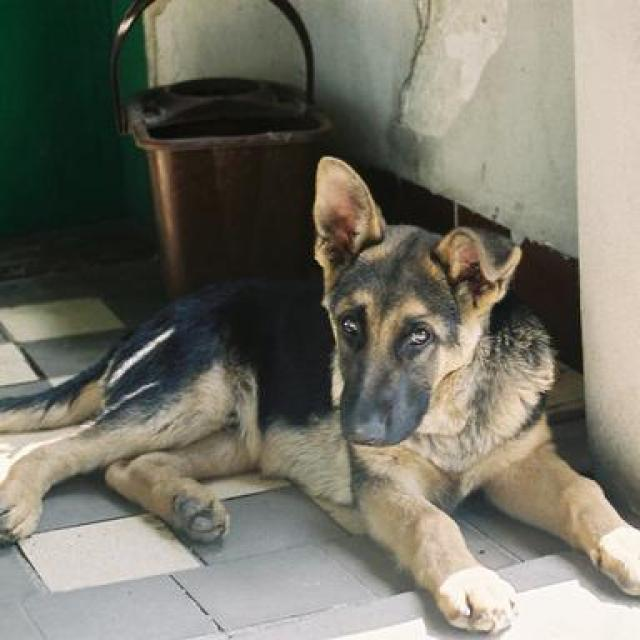relax: (288, 167, 528, 477)
